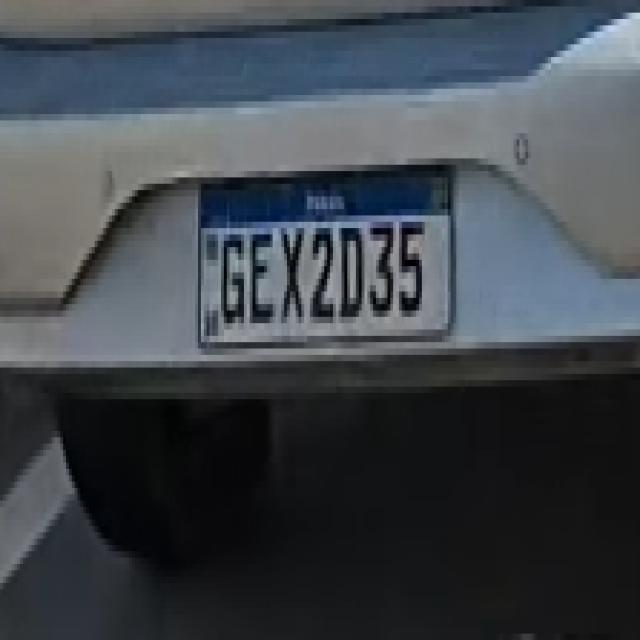Placa_mercosul_carro: (197, 154, 461, 354)
